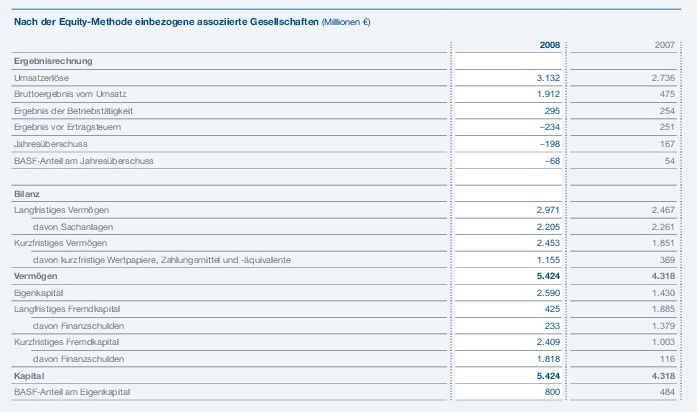table: (0, 0, 697, 412)
